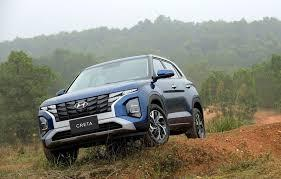hyundai: (69, 100, 89, 109)
